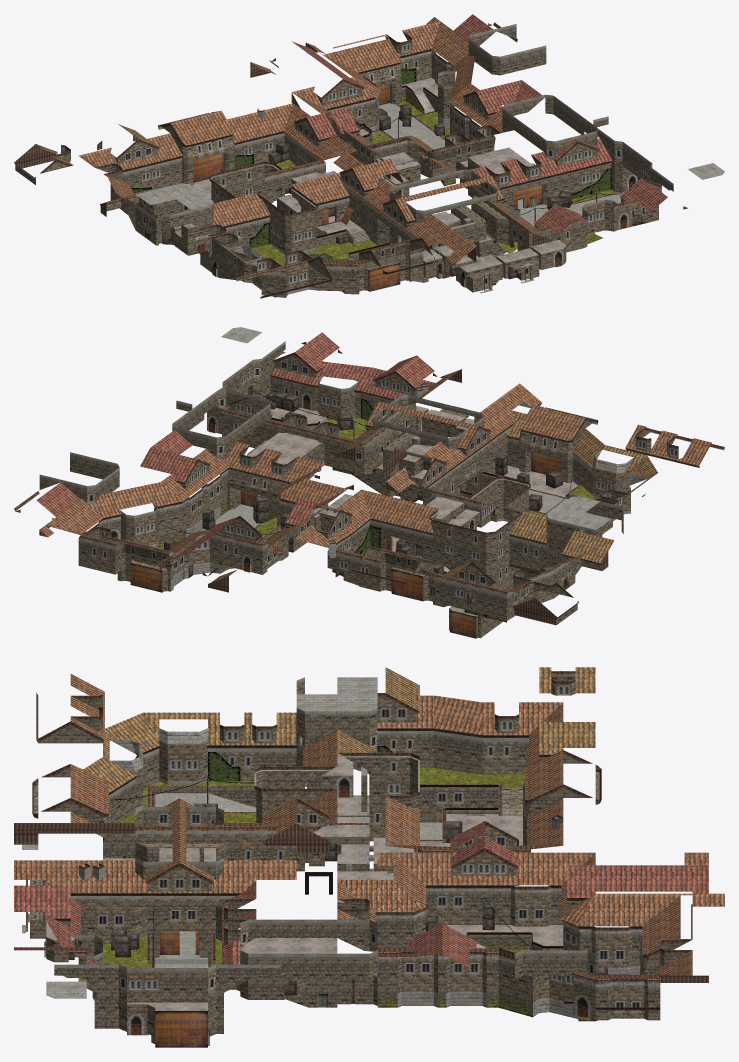
Rendered from cs16_cobblestone.glb.
3 views of the same model, one above another, from view 1: azimuth 30°, elevation 25°; view 2: azimuth 150°, elevation 25°; view 3: azimuth 270°, elevation 25° (orthographic). The views are drawn at different scales.
Visible parts, largest first — view 1: Cobblestone; view 2: Cobblestone; view 3: Cobblestone.
Boxes of the visible parts, box(x1,y1,x2,y2) form: Cobblestone: box(14, 14, 724, 298); Cobblestone: box(14, 327, 724, 638); Cobblestone: box(14, 667, 724, 1047).
Size of the model in its own units: 160 by 24 by 141.
45 materials, 45 textured.
